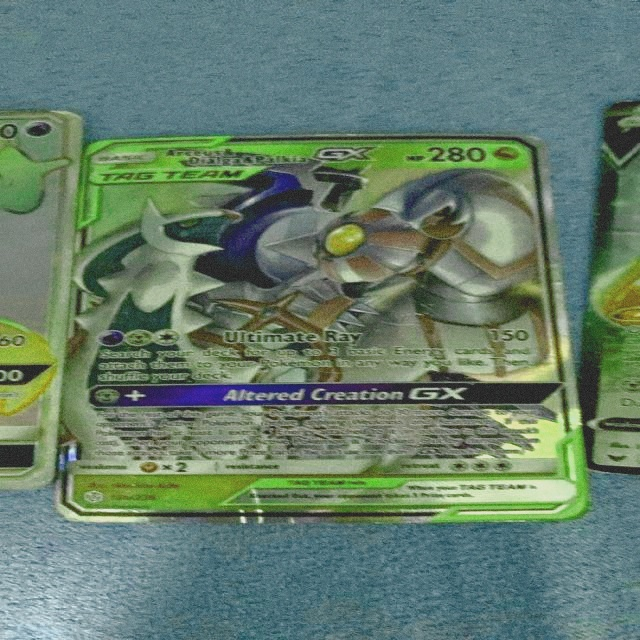card: (55, 133, 592, 525), (0, 109, 86, 491), (577, 100, 640, 476)
